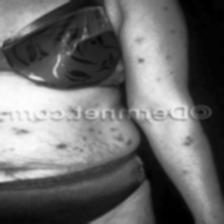Non-Cancerous Skin Condition: (38, 126, 132, 156), (126, 36, 146, 66), (0, 100, 10, 158), (177, 134, 195, 150), (196, 214, 224, 224), (168, 24, 180, 36)
